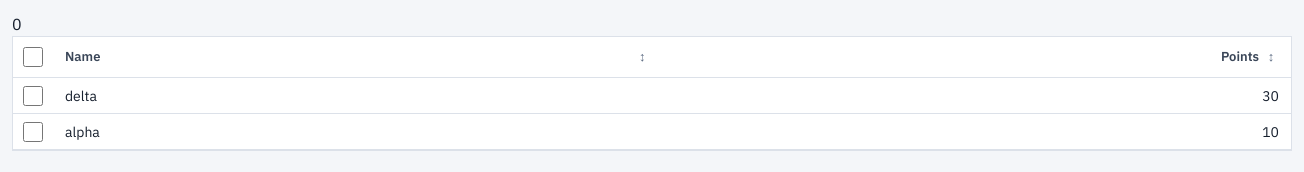
Test case: DataTable selection › clicking a partial header checkbox completes selection (native convention)
This screenshot has width=1304, height=172.
Click the checkbox named "Select row 1". click: (33, 96)
box: x1=23 y1=86 x2=43 y2=106
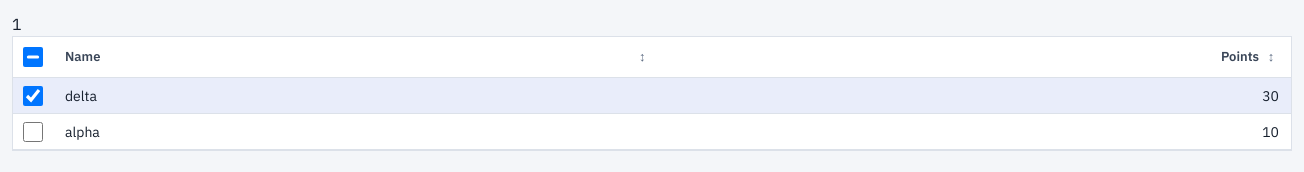
Click the checkbox named "Select all 2 rows". click: (33, 57)
box: x1=23 y1=47 x2=43 y2=67
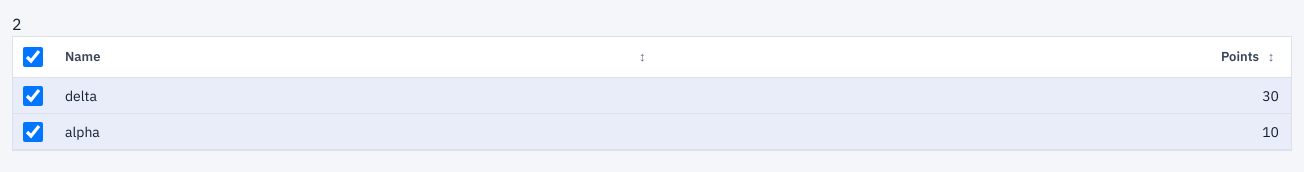
expect the text with test id "count" reads "2": met, box x1=12 y1=14 x2=22 y2=34
